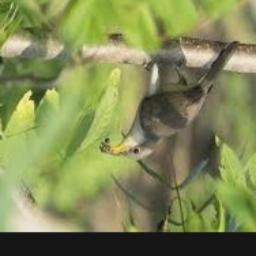Cuckoo: (102, 41, 240, 159)
